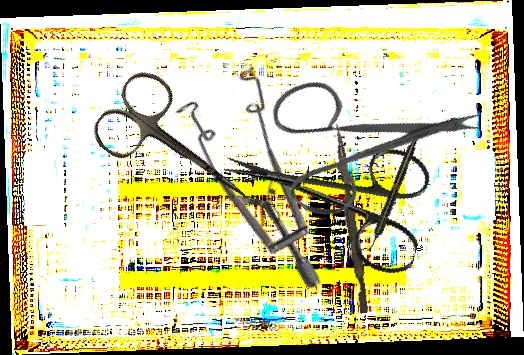Handpiece: (365, 135, 421, 253)
Iris Scissors: (234, 5, 491, 263), (208, 107, 441, 279), (86, 63, 275, 237)
Pusher: (327, 123, 374, 314)
Speculum: (135, 44, 402, 293)
